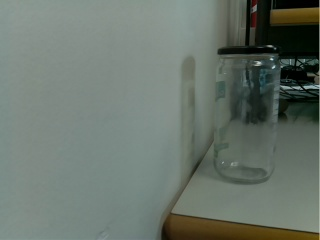pote cristal: (212, 43, 280, 185)
